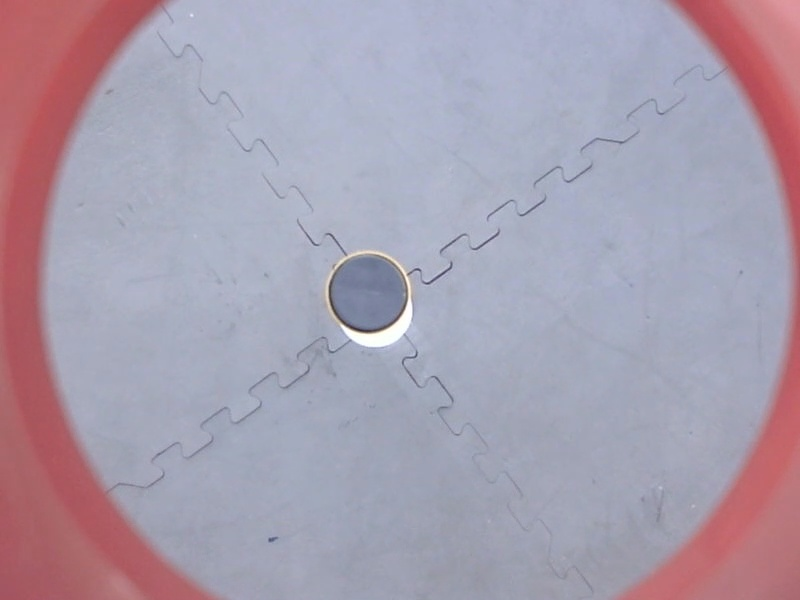tip: (320, 246, 416, 337)
